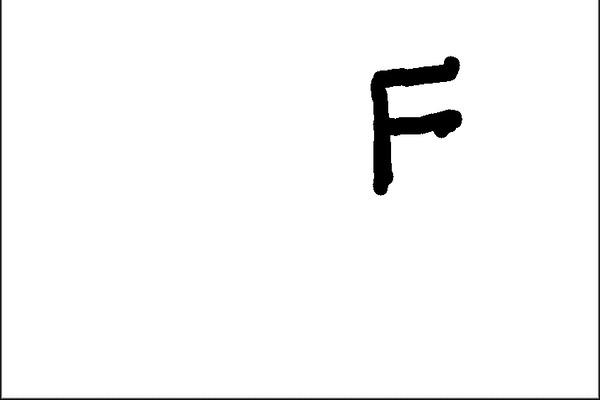F: (362, 51, 466, 199)
